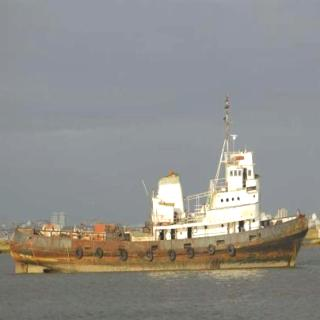Tug Boat: (14, 154, 312, 263)
